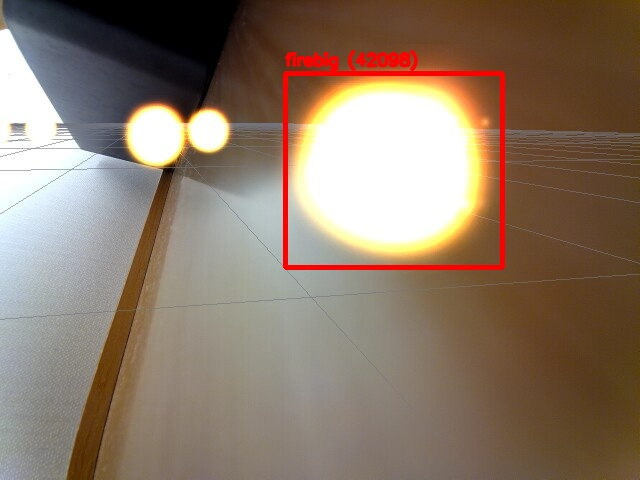firebig: (285, 73, 502, 267)
